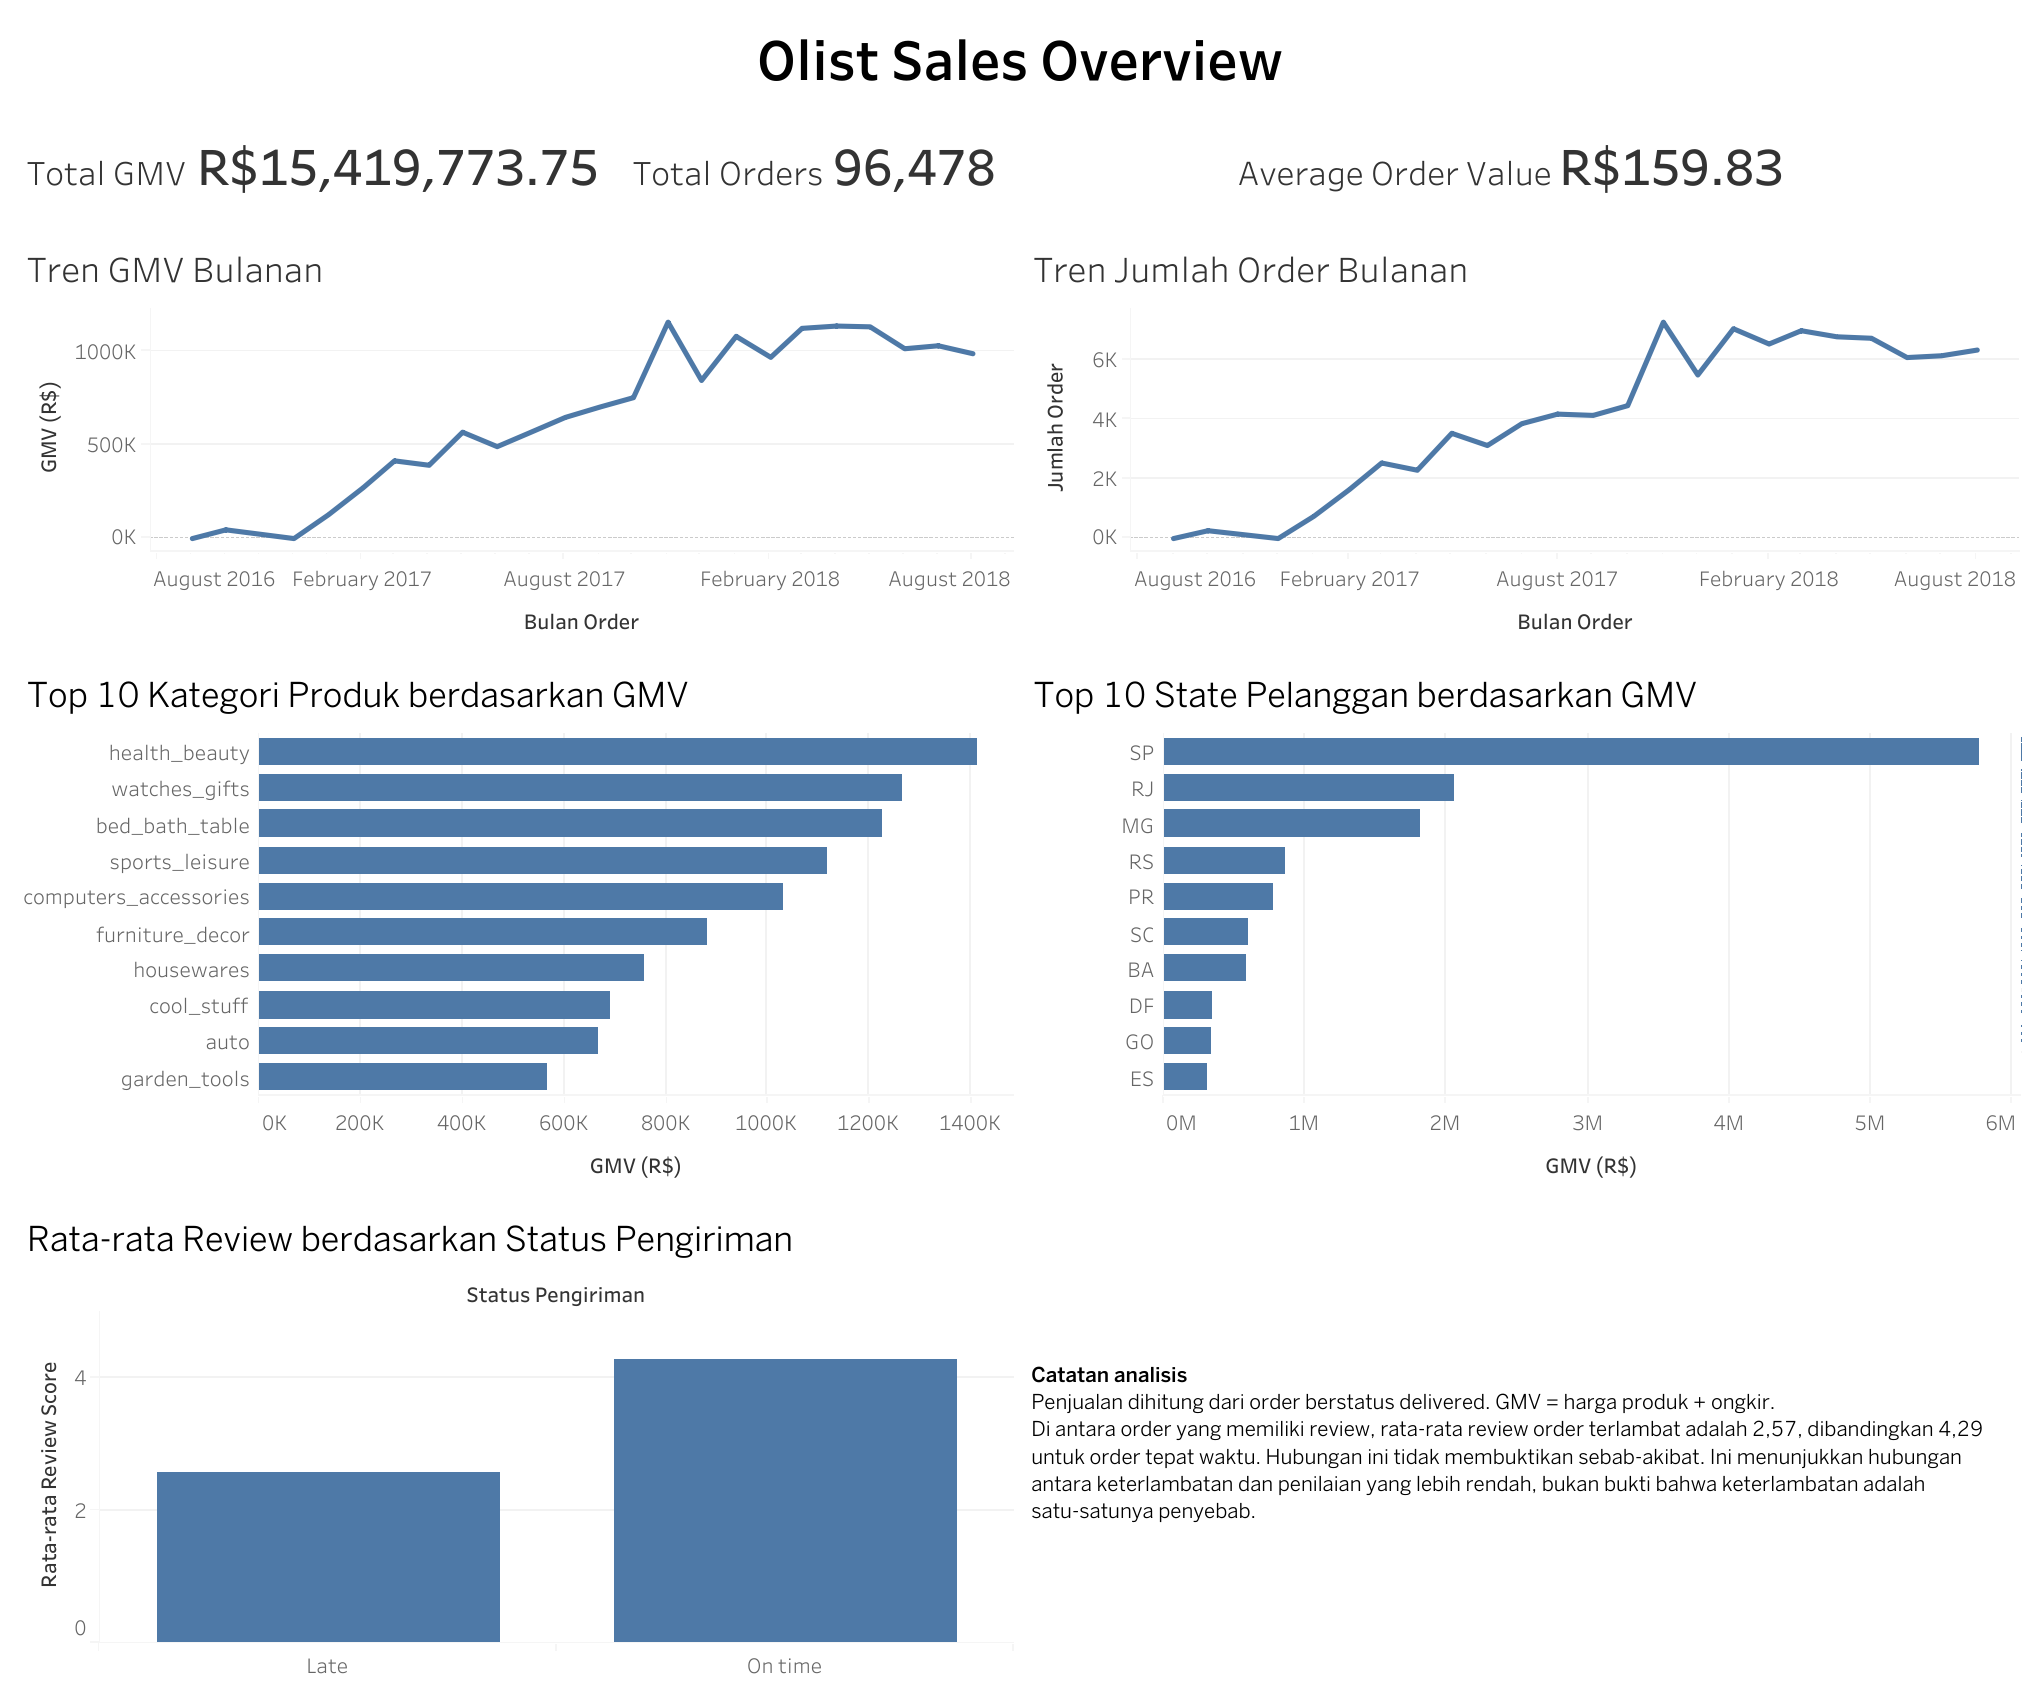

Layout of this report page (visuals, bound fields, positions):
{"tool":"tableau","page":{"name":"Olist Sales Overview","canvas":[1200,1000],"ordinal":0},"visuals":[{"type":"title","box":[8,8,1184,52]},{"type":"worksheet","title":"KPI -Total GMV","mark":"Text","box":[8,60,356,74.1]},{"type":"worksheet","title":"KPI - Total Orders","mark":"Text","box":[364,60,356,74.1]},{"type":"worksheet","title":"KPI - AoV","mark":"Text","box":[720,60,472,74.1]},{"type":"worksheet","title":"Tren GMV Bulanan","mark":"Line","rows":["gmv"],"cols":["tanggal_order"],"box":[8,134.1,592,250.8]},{"type":"worksheet","title":"Tren Jumlah Order Bulanan","mark":"Line","rows":["order_id"],"cols":["tanggal_order"],"box":[600,134.1,592,250.8]},{"type":"worksheet","title":"Top 10 Kategori Produk","mark":"Automatic","rows":["kategori_produk"],"cols":["gmv_item"],"box":[8,384.9,592,320.1]},{"type":"worksheet","title":"Top 10 State Customer","mark":"Automatic","rows":["customer_state"],"cols":["gmv"],"box":[600,384.9,592,320.1]},{"type":"worksheet","title":"Review berdasarkan Pengiriman","mark":"Automatic","rows":["rata_rata_review_score"],"cols":["status_pengiriman"],"box":[8,705,592,287]},{"type":"text","box":[600,705,592,287]}]}

Visuals, with their boxes in screenshot pixels (x1, y1, x2, y2), scaled from the page's 1200x1000 canvas onto the 2038x1698 screenshot:
title: {"x1": 14, "y1": 14, "x2": 2024, "y2": 102}
"KPI -Total GMV" worksheet (Text marks): {"x1": 14, "y1": 102, "x2": 618, "y2": 228}
"KPI - Total Orders" worksheet (Text marks): {"x1": 618, "y1": 102, "x2": 1223, "y2": 228}
"KPI - AoV" worksheet (Text marks): {"x1": 1223, "y1": 102, "x2": 2024, "y2": 228}
"Tren GMV Bulanan" worksheet (Line marks): {"x1": 14, "y1": 228, "x2": 1019, "y2": 654}
"Tren Jumlah Order Bulanan" worksheet (Line marks): {"x1": 1019, "y1": 228, "x2": 2024, "y2": 654}
"Top 10 Kategori Produk" worksheet: {"x1": 14, "y1": 654, "x2": 1019, "y2": 1197}
"Top 10 State Customer" worksheet: {"x1": 1019, "y1": 654, "x2": 2024, "y2": 1197}
"Review berdasarkan Pengiriman" worksheet: {"x1": 14, "y1": 1197, "x2": 1019, "y2": 1684}
text: {"x1": 1019, "y1": 1197, "x2": 2024, "y2": 1684}
